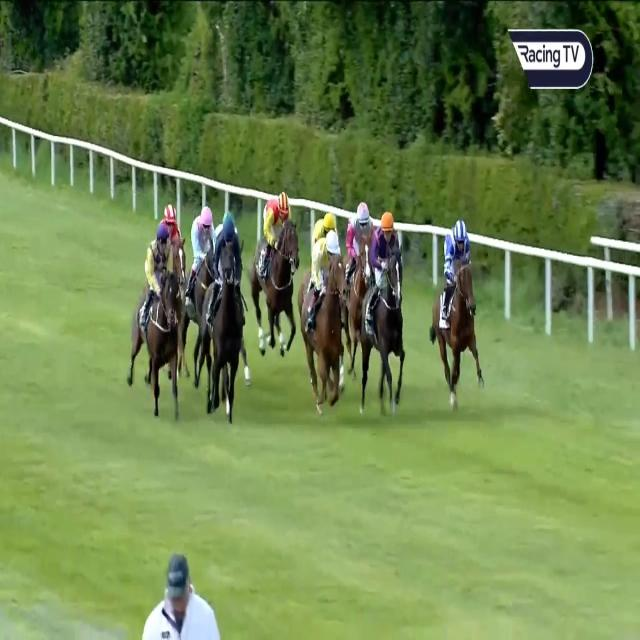horses-racing: (129, 216, 187, 418), (198, 206, 244, 424), (362, 206, 408, 412), (438, 219, 486, 413), (252, 183, 298, 371), (302, 232, 346, 418), (346, 198, 374, 272), (190, 195, 212, 275), (159, 196, 183, 265), (308, 203, 338, 243)
